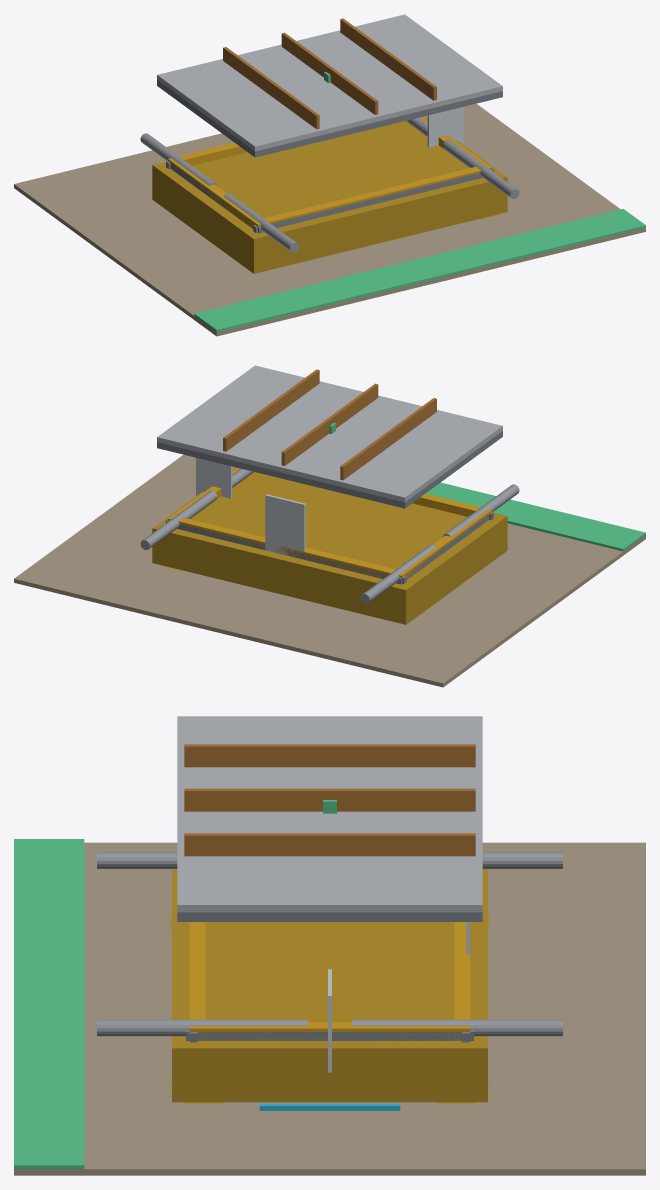
The model's file is construction_master.glb.
The picture shows the model from 3 angles, top to bottom: view 1: azimuth 30°, elevation 25°; view 2: azimuth 150°, elevation 25°; view 3: azimuth 270°, elevation 25°; orthographic projection. The views are drawn at different scales.
Parts seen in each view (by area): view 1: world; view 2: world; view 3: world.
Part boxes in pixels (x1,y1,x2,y2): world: [14, 14, 645, 336]; world: [14, 365, 645, 687]; world: [14, 716, 645, 1175].
Size of the model in its own units: 11 by 4.2 by 9.
